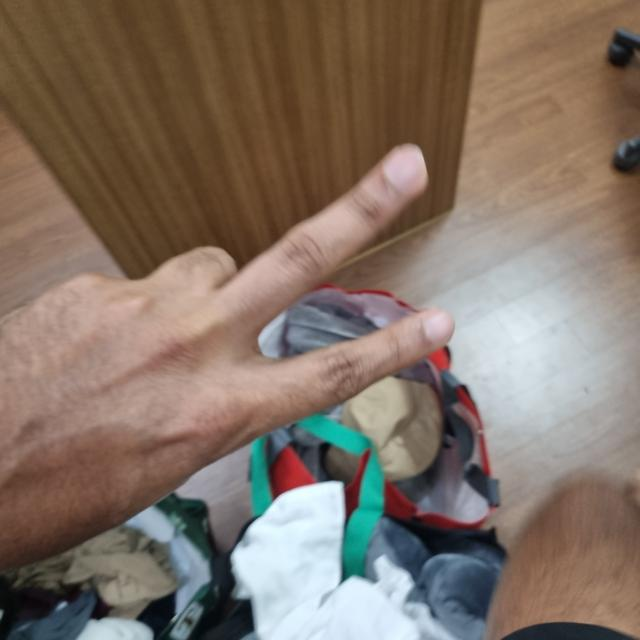Scissors: (0, 143, 640, 638)
